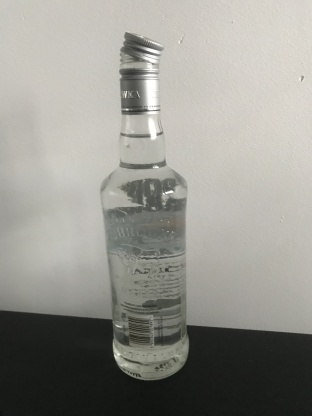nakretka: (118, 27, 164, 114)
